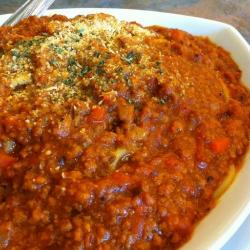bolonese_pasta: (5, 16, 246, 246)
